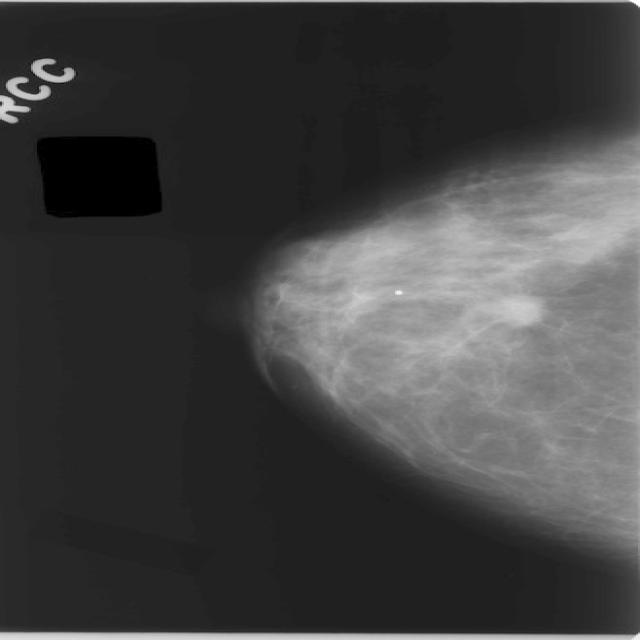tumour: (490, 292, 543, 326)
